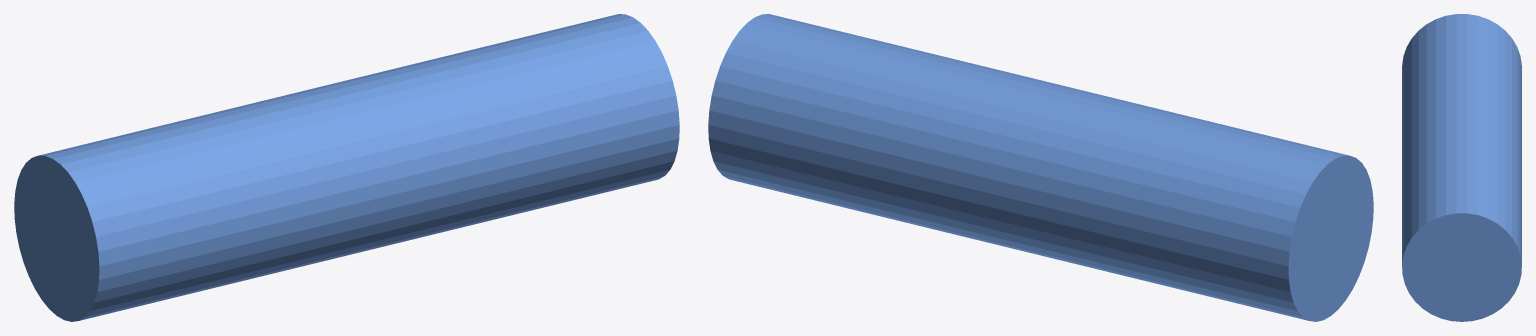
File: landing_motor.glb
3 renders of one model, left to right at view 1: azimuth 30°, elevation 25°; view 2: azimuth 150°, elevation 25°; view 3: azimuth 270°, elevation 25°, orthographic. The views are drawn at different scales.
Parts seen in each view (by area): view 1: part:2d5bc6; view 2: part:2d5bc6; view 3: part:2d5bc6.
Part boxes in pixels (bbox=[...]): part:2d5bc6: bbox=[14, 14, 679, 321]; part:2d5bc6: bbox=[708, 14, 1373, 321]; part:2d5bc6: bbox=[1402, 14, 1521, 321].
Size of the model in its own units: 0.114 by 0.0289 by 0.029.
